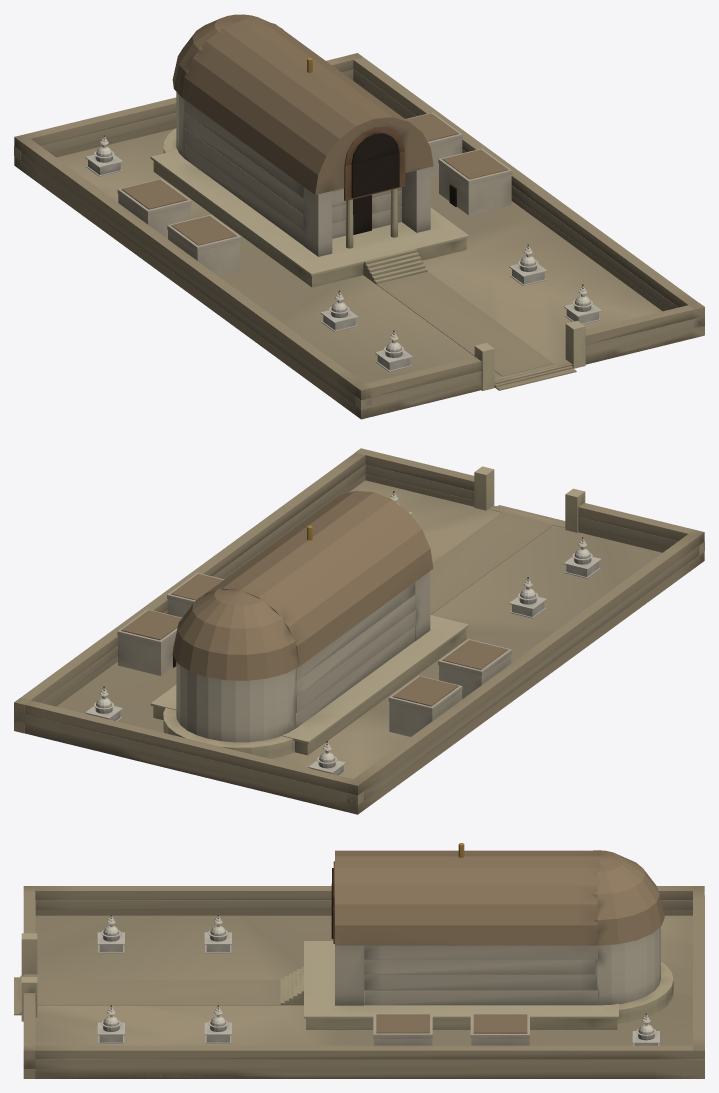
File: apsidal-temple.glb
3 renders of one model, top to bottom at view 1: azimuth 30°, elevation 25°; view 2: azimuth 150°, elevation 25°; view 3: azimuth 270°, elevation 25°, orthographic.
Visible parts, largest first — view 1: p0_court, p2_roof, p1_temple, p3_court shrines; view 2: p0_court, p2_roof, p1_temple, p3_court shrines; view 3: p0_court, p2_roof, p1_temple, p3_court shrines.
Part boxes in pixels (x1,y1,x2,y2): p0_court: (14,53,704,419); p2_roof: (172,14,433,200); p1_temple: (150,92,469,287); p3_court shrines: (85,112,601,371); p0_court: (14,448,704,814); p2_roof: (172,490,433,680); p1_temple: (150,571,468,758); p3_court shrines: (85,491,601,775); p0_court: (14,886,704,1078); p2_roof: (331,843,664,945); p1_temple: (280,927,673,1029); p3_court shrines: (97,914,659,1045).
Bounding box in the file's own units: 40.08 × 17.33 × 71.03.
